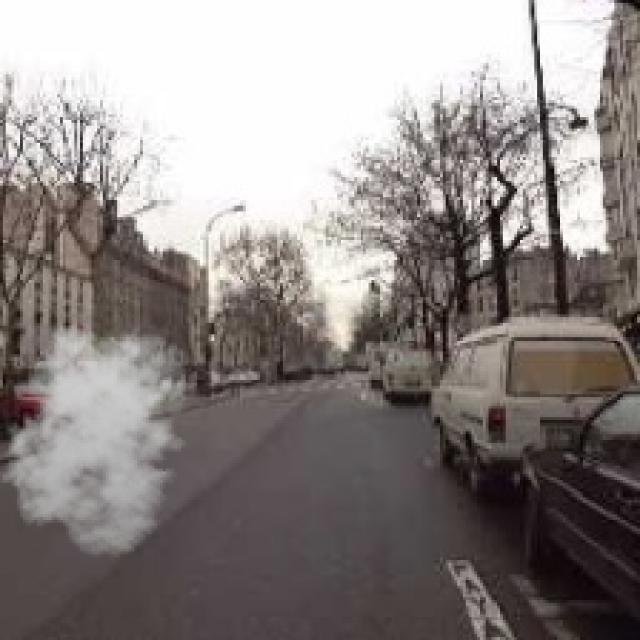smoke: (0, 317, 200, 557)
